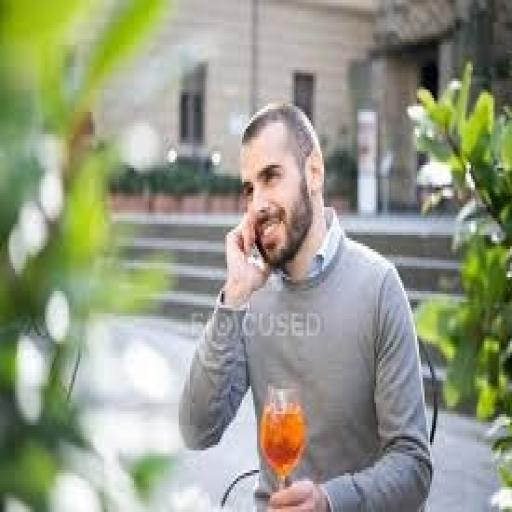texting: (175, 98, 434, 509)
